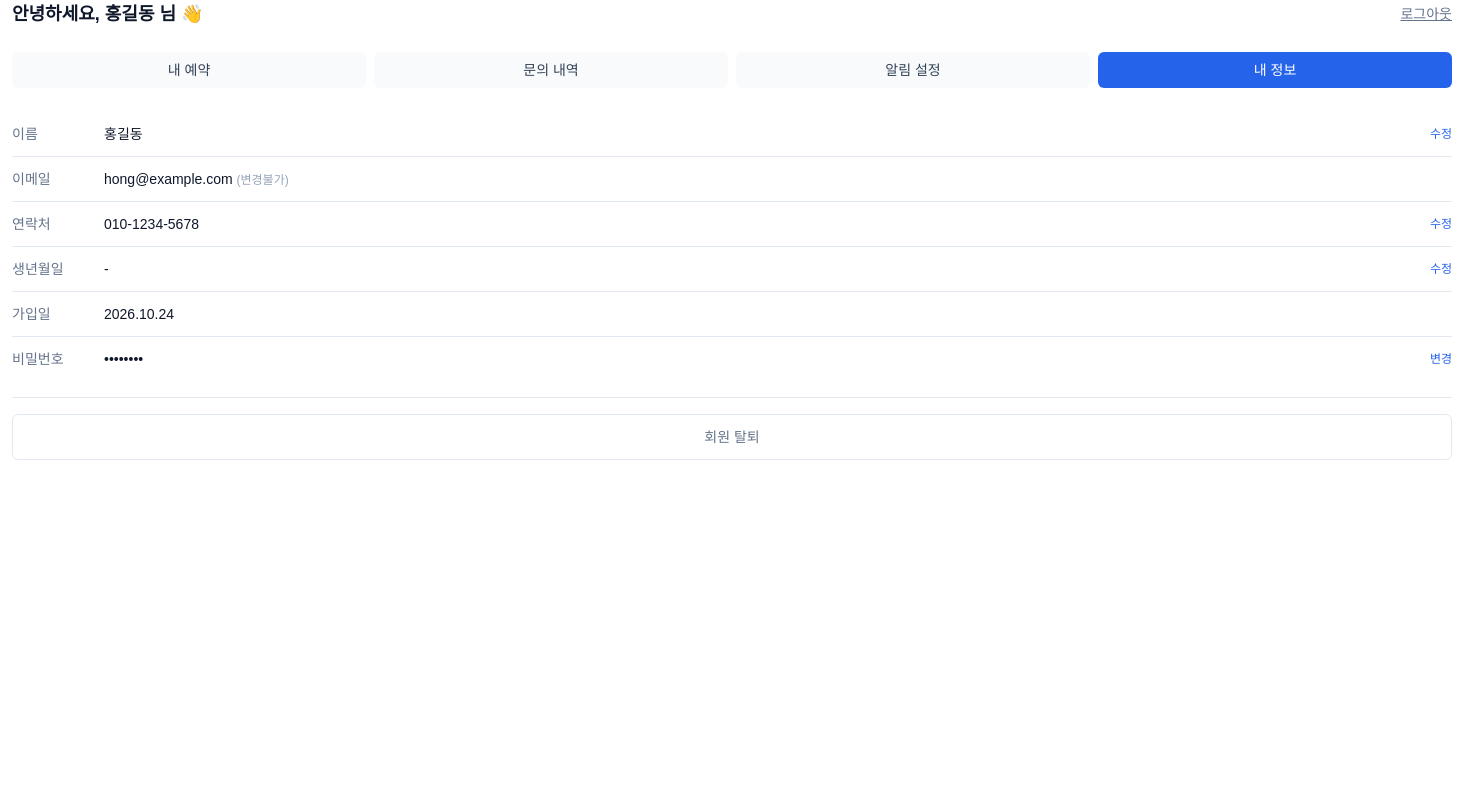
내 정보 › 이름 수정 · 검증
Click the button "수정" in the row of "이름" at {"x": 1441, "y": 134}, box [1430,126,1452,142]
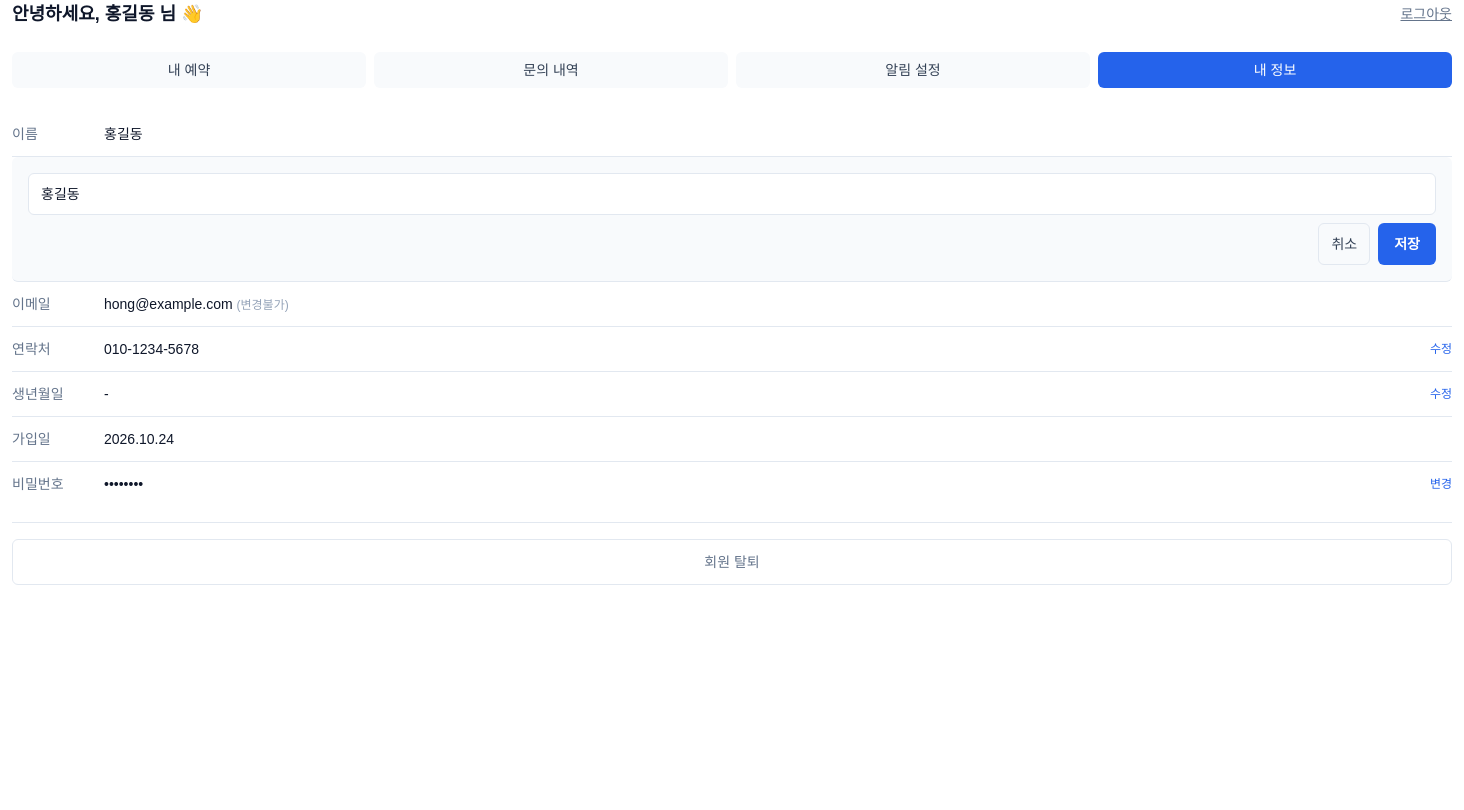
Replace the text in the field named "새 이름" with "홍" at {"x": 732, "y": 194}, box [28,173,1436,215]
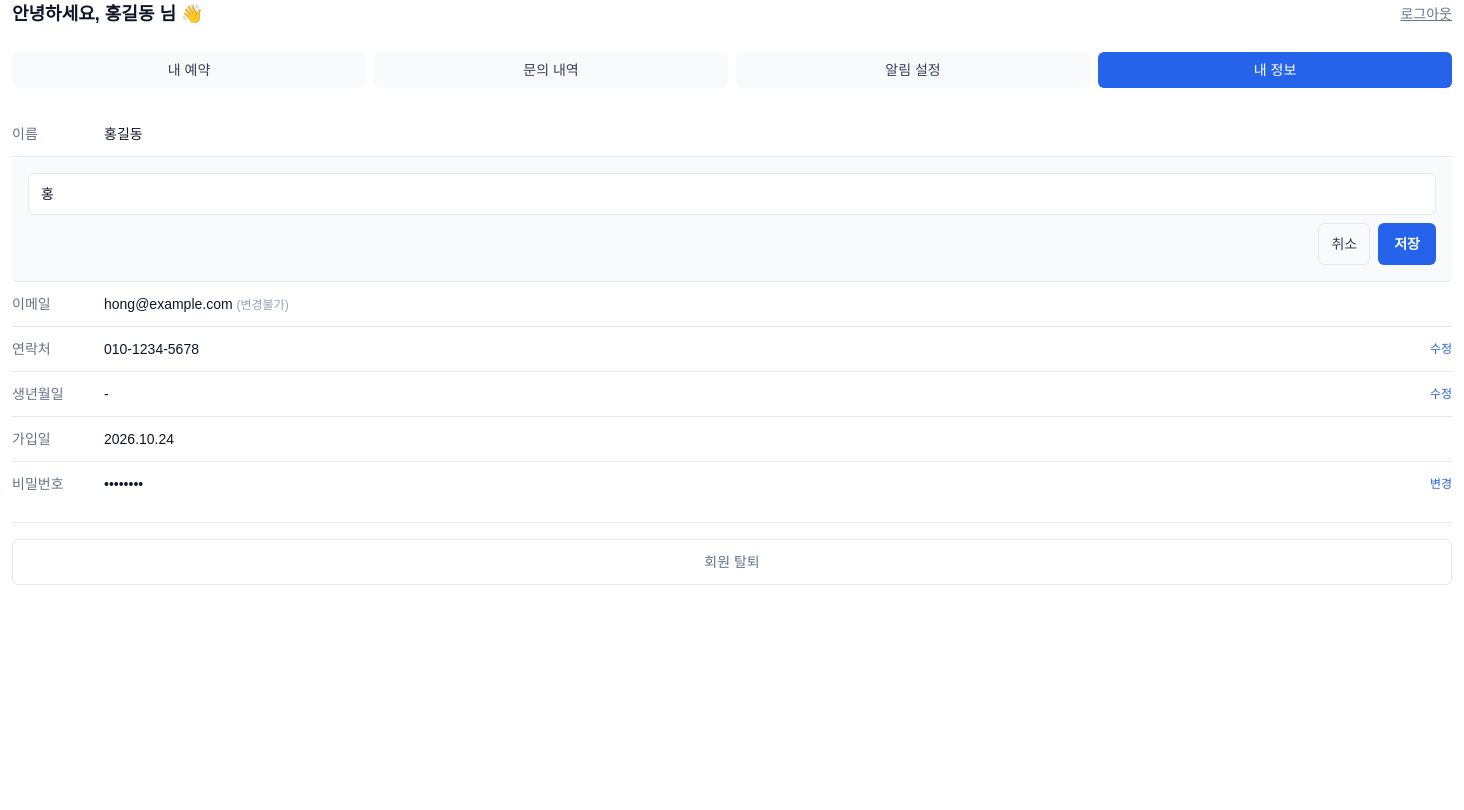
Click the button "저장" at {"x": 1407, "y": 244}, box [1378,223,1436,265]
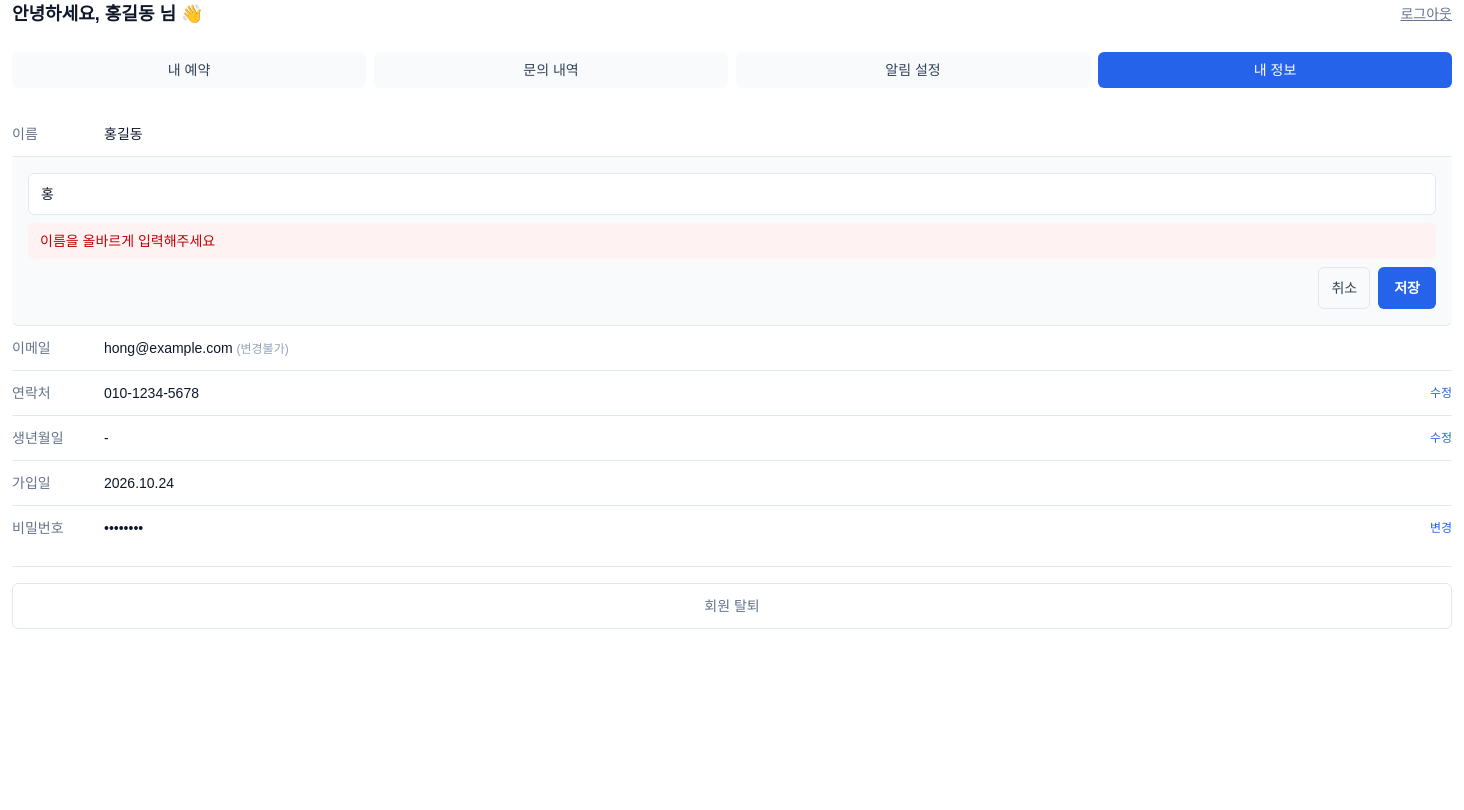
Expected: the message reads "이름을 올바르게 입력해주세요", [40,233,215,249]
Replace the text in the field named "새 이름" with "홍길순" at {"x": 732, "y": 194}, box [28,173,1436,215]
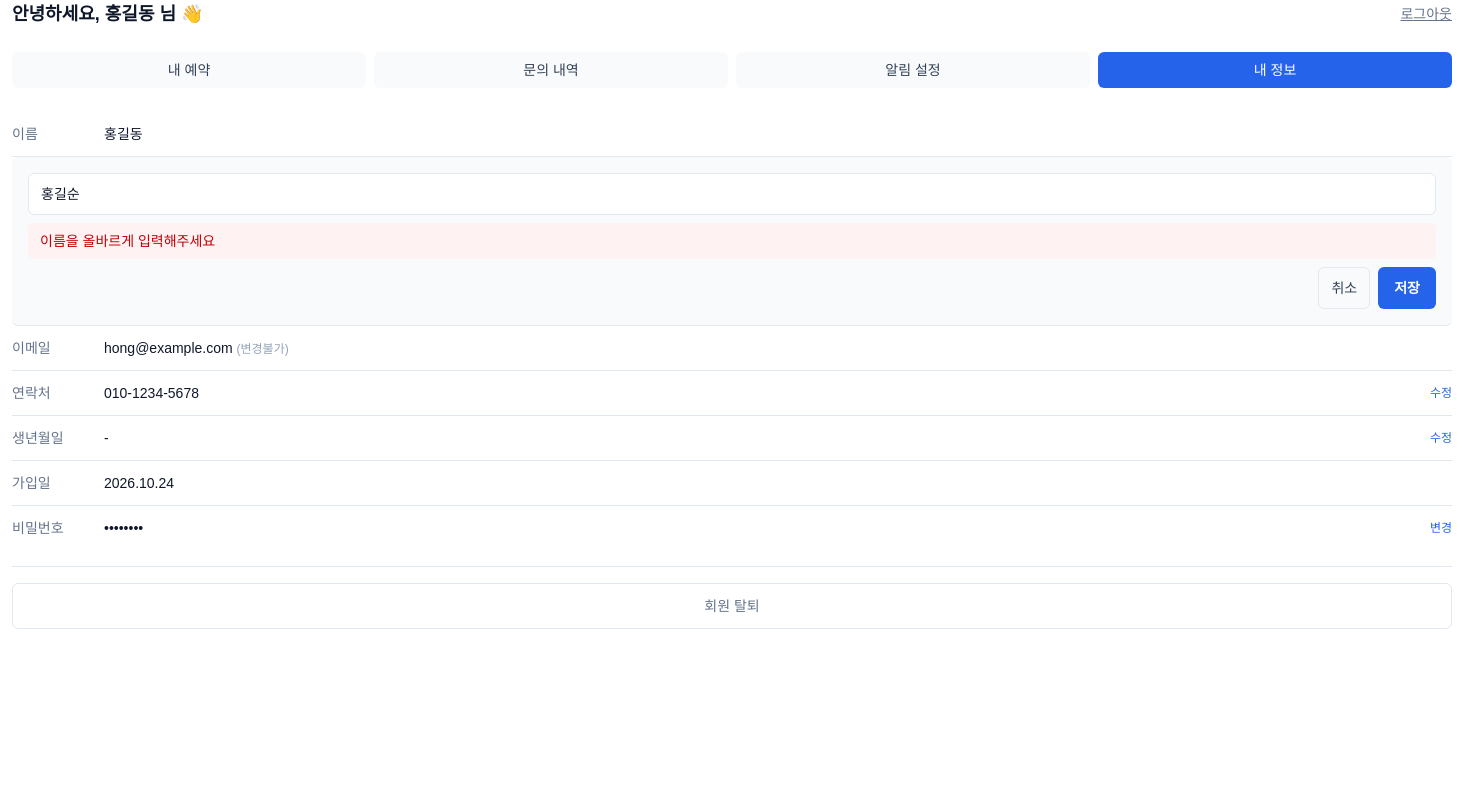
Click the button "저장" at {"x": 1407, "y": 288}, box [1378,267,1436,309]
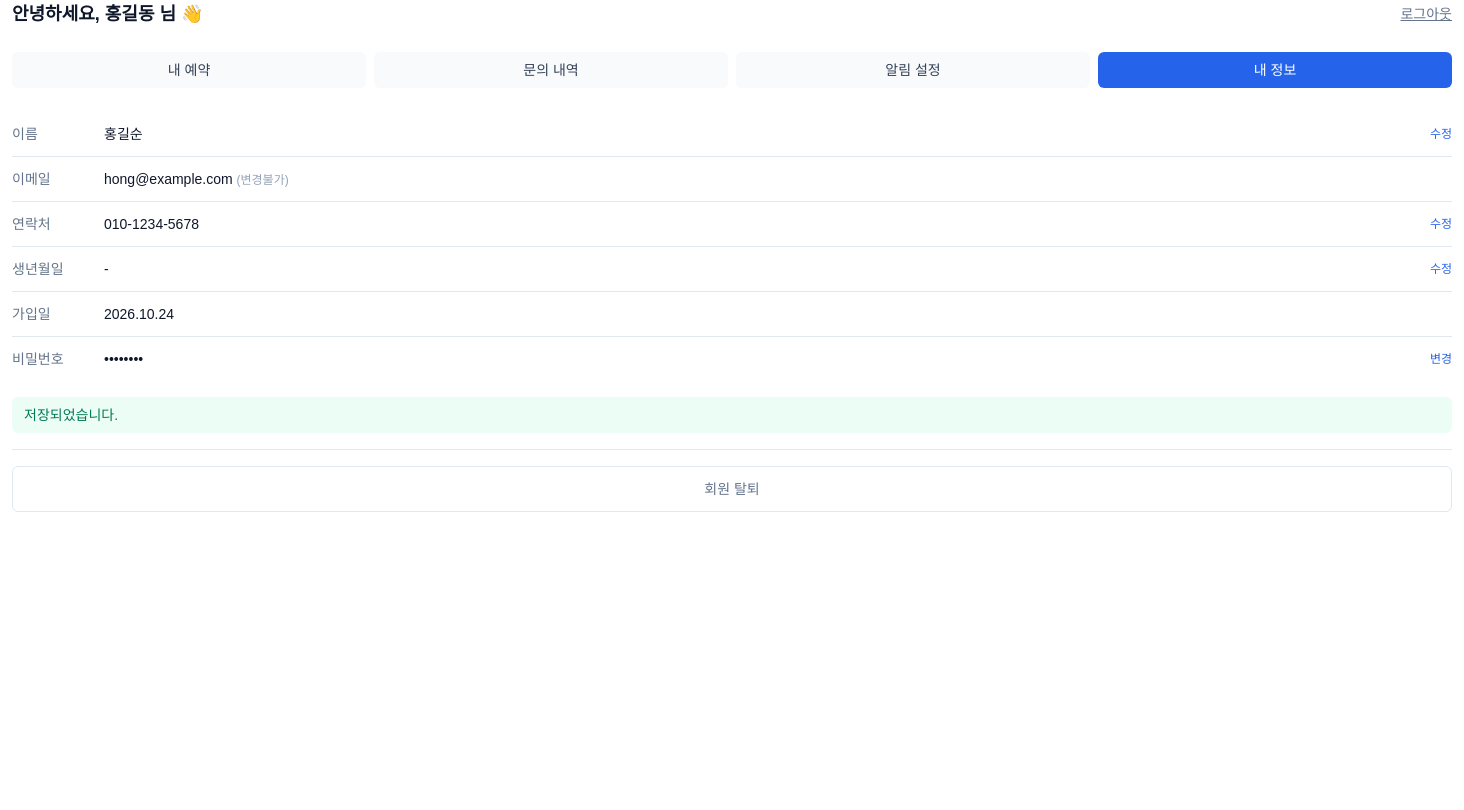
Expected: the text "저장되었습니다." is shown, [12,397,1452,433]
